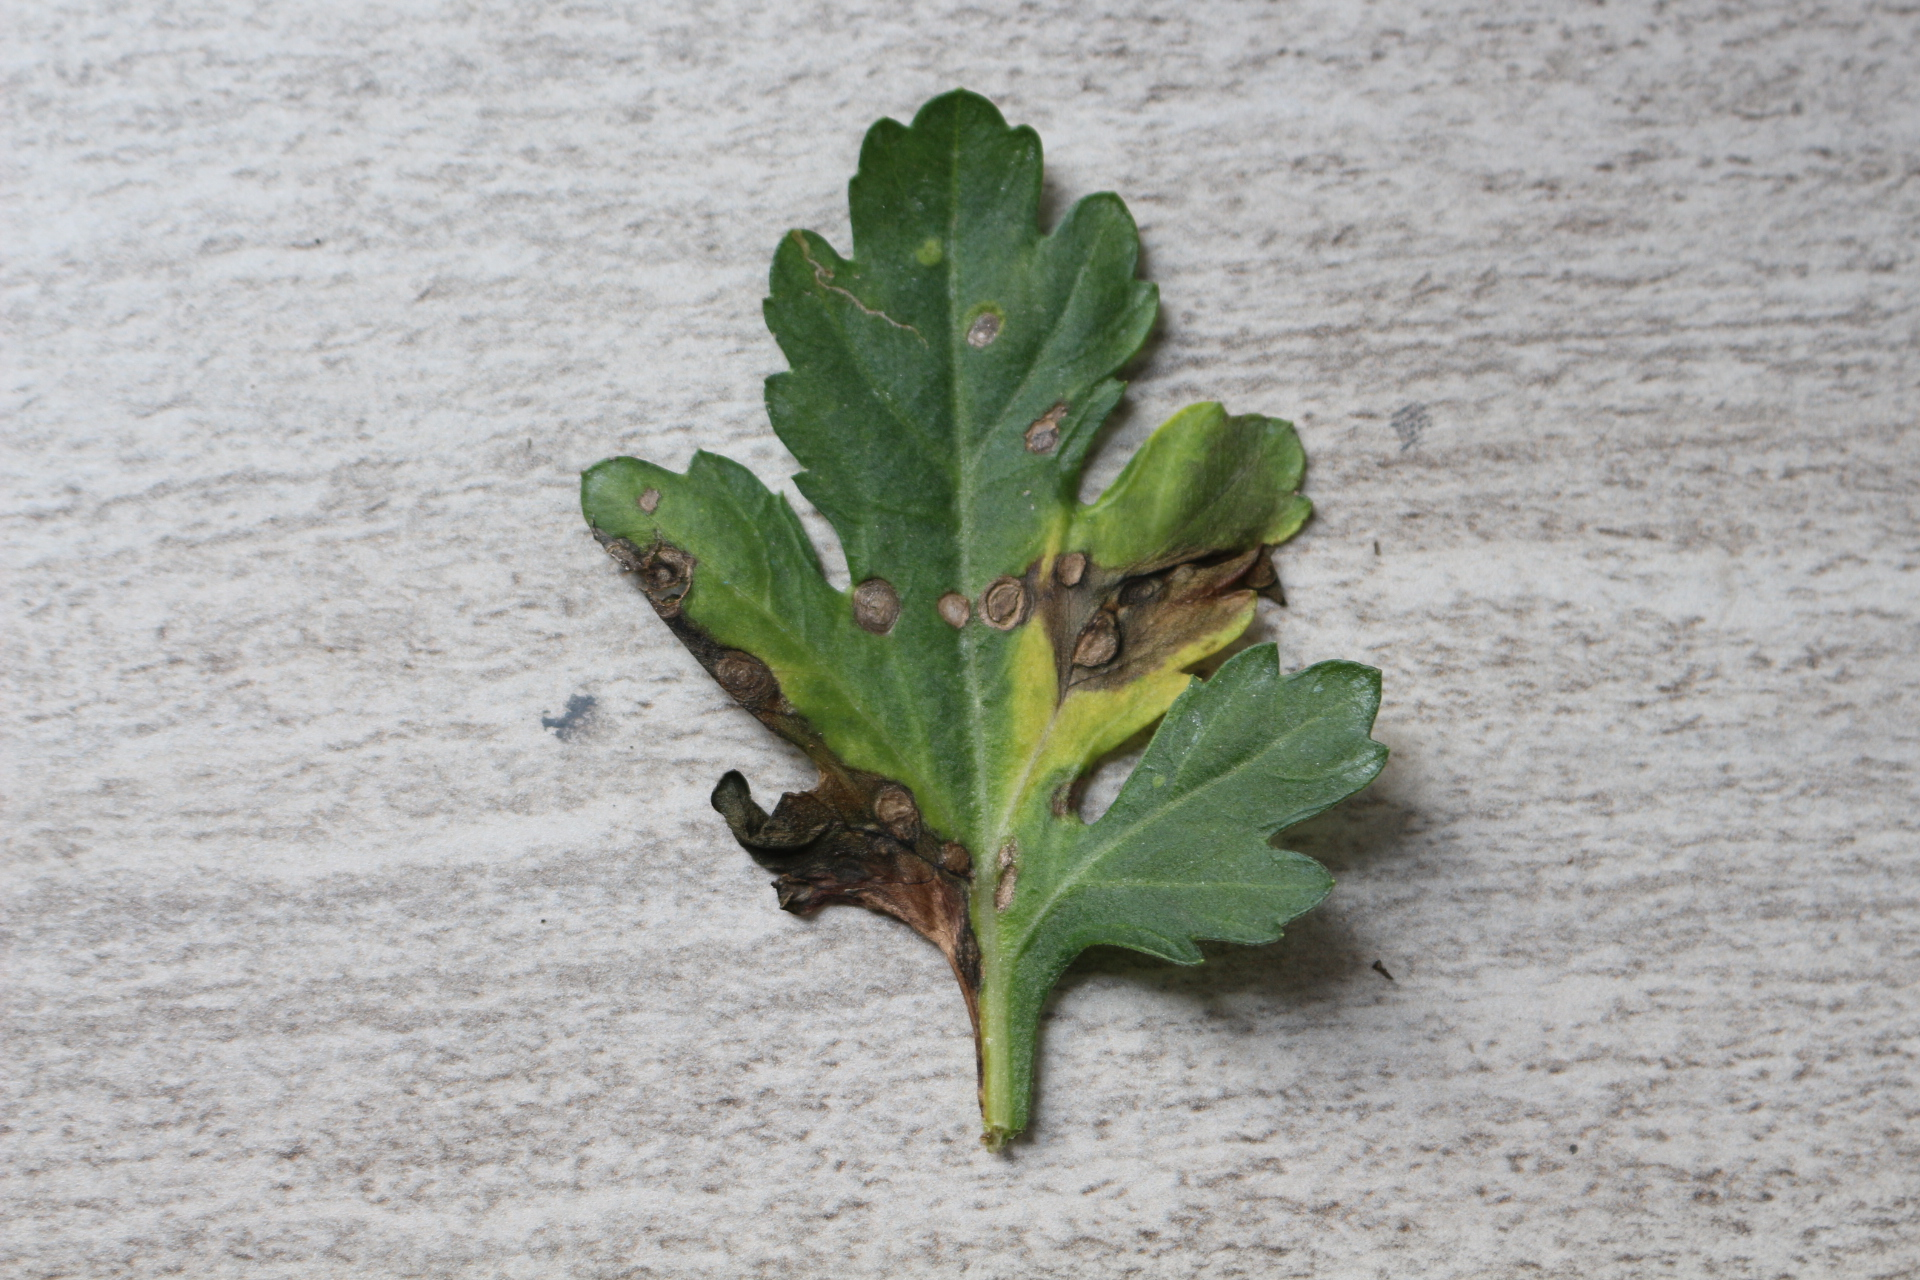namden: (850, 574, 903, 636), (981, 577, 1033, 631), (1029, 404, 1069, 456), (960, 311, 1010, 351), (934, 587, 971, 633)
